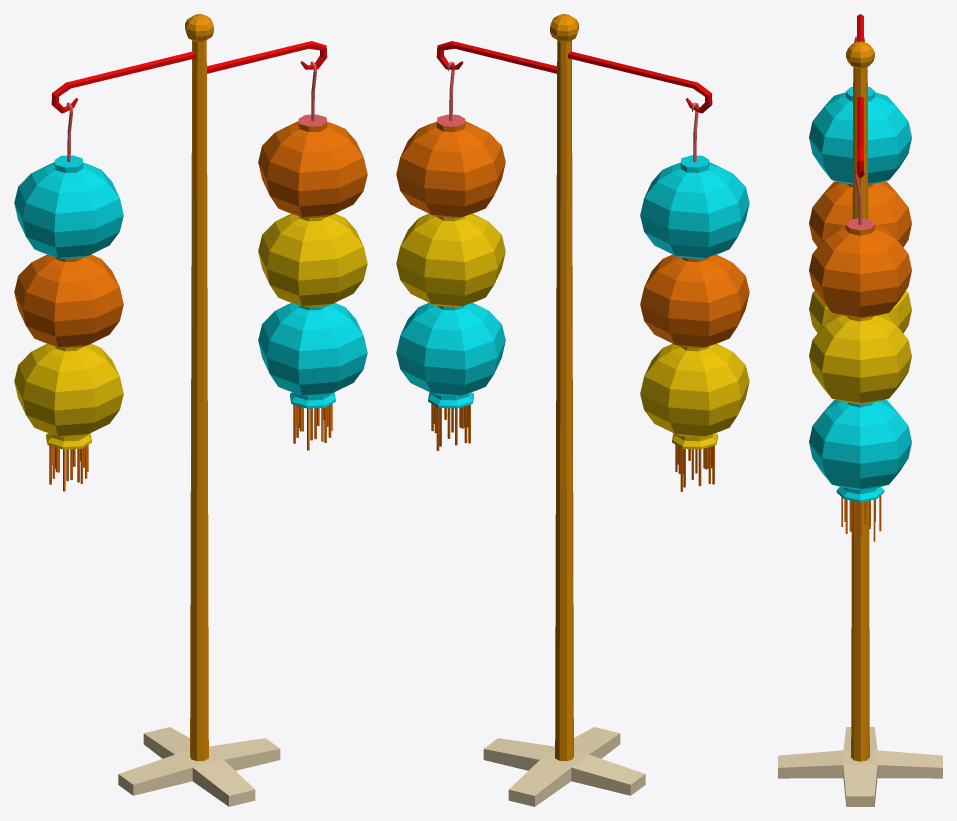
File: GEO_rich_lantern_2.fbx
3 views of the same model, side by side, from view 1: azimuth 30°, elevation 25°; view 2: azimuth 150°, elevation 25°; view 3: azimuth 270°, elevation 25° (orthographic). The views are drawn at different scales.
Parts seen in each view (by area): view 1: Trio_L, Trio_R, Trio_Stolpe; view 2: Trio_L, Trio_R, Trio_Stolpe; view 3: Trio_L, Trio_Stolpe, Trio_R.
Boxes of the visible parts, x1,y1,x2,y2 form: Trio_L: [258, 61, 367, 450]; Trio_R: [14, 102, 123, 491]; Trio_Stolpe: [51, 14, 327, 806]; Trio_L: [396, 61, 505, 450]; Trio_R: [640, 102, 749, 491]; Trio_Stolpe: [436, 14, 712, 806]; Trio_L: [809, 169, 911, 541]; Trio_Stolpe: [778, 14, 942, 806]; Trio_R: [809, 36, 911, 333].
Size of the model in its own units: 136 by 292 by 59.88.
